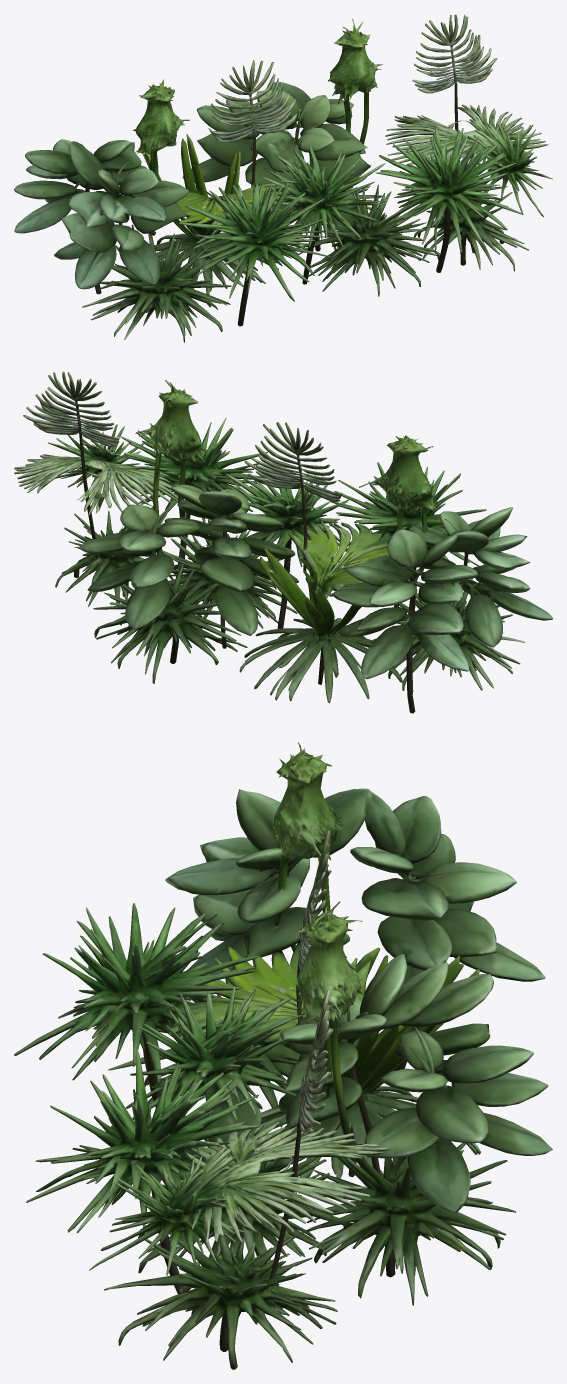
The model's file is bamboo_tropical.glb.
3 renders of one model, top to bottom at view 1: azimuth 30°, elevation 25°; view 2: azimuth 150°, elevation 25°; view 3: azimuth 270°, elevation 25°, orthographic. The views are drawn at different scales.
Parts seen in each view (by area): view 1: tripo_node_a5817dc6-0bbc-4e02-8a4b-7af90f01b16e; view 2: tripo_node_a5817dc6-0bbc-4e02-8a4b-7af90f01b16e; view 3: tripo_node_a5817dc6-0bbc-4e02-8a4b-7af90f01b16e.
Part boxes in pixels (bbox=[...]): tripo_node_a5817dc6-0bbc-4e02-8a4b-7af90f01b16e: bbox=[14, 14, 552, 342]; tripo_node_a5817dc6-0bbc-4e02-8a4b-7af90f01b16e: bbox=[14, 371, 552, 713]; tripo_node_a5817dc6-0bbc-4e02-8a4b-7af90f01b16e: bbox=[14, 742, 552, 1369].
Size of the model in its own units: 0.9774 by 0.4751 by 0.5958.
Materials: 1 (1 with a texture image).
